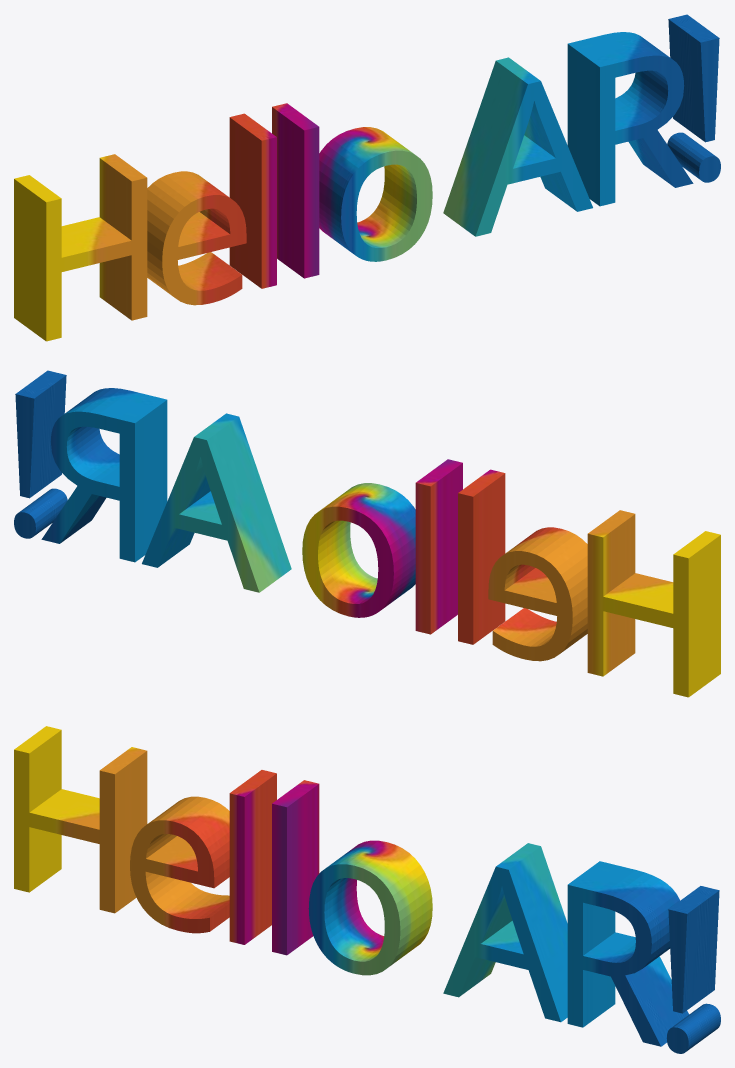
File: hello_ar.glb
3 renders of one model, top to bottom at view 1: azimuth 30°, elevation 25°; view 2: azimuth 150°, elevation 25°; view 3: azimuth 330°, elevation 25°, orthographic.
Visible parts, largest first — view 1: 3D Text - H, 3D Text - R, 3D Text - l (×2), 3D Text - A, 3D Text - o, 3D Text - e, 3D Text - !; view 2: 3D Text - H, 3D Text - R, 3D Text - l (×2), 3D Text - A, 3D Text - o, 3D Text - e, 3D Text - !; view 3: 3D Text - R, 3D Text - H, 3D Text - l (×2), 3D Text - A, 3D Text - o, 3D Text - e, 3D Text - !.
Part boxes in pixels (x1=…): 3D Text - H: x1=14, y1=154, x2=147, y2=341; 3D Text - R: x1=567, y1=32, x2=693, y2=206; 3D Text - l (×2): x1=229, y1=103, x2=319, y2=288; 3D Text - A: x1=443, y1=57, x2=592, y2=236; 3D Text - o: x1=319, y1=127, x2=432, y2=261; 3D Text - e: x1=147, y1=171, x2=246, y2=305; 3D Text - !: x1=667, y1=14, x2=720, y2=182; 3D Text - H: x1=587, y1=510, x2=720, y2=697; 3D Text - R: x1=41, y1=388, x2=167, y2=562; 3D Text - l (×2): x1=415, y1=459, x2=505, y2=644; 3D Text - A: x1=142, y1=413, x2=291, y2=592; 3D Text - o: x1=302, y1=483, x2=415, y2=617; 3D Text - e: x1=488, y1=527, x2=587, y2=661; 3D Text - !: x1=14, y1=370, x2=67, y2=538; 3D Text - R: x1=567, y1=861, x2=688, y2=1046; 3D Text - H: x1=14, y1=726, x2=147, y2=913; 3D Text - l (×2): x1=229, y1=770, x2=319, y2=955; 3D Text - A: x1=443, y1=843, x2=567, y2=1022; 3D Text - o: x1=308, y1=840, x2=432, y2=975; 3D Text - e: x1=130, y1=796, x2=229, y2=933; 3D Text - !: x1=666, y1=886, x2=720, y2=1053.
Bounding box in the file's own units: 0.1811 × 0.0387 × 0.015.
1 material, 1 textured.
